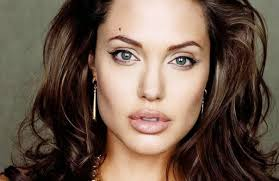mole: (116, 24, 122, 33)
